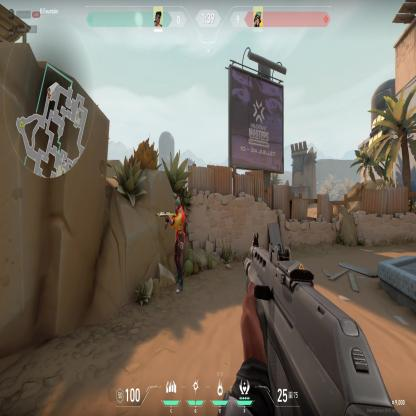enemy: (164, 194, 188, 294)
